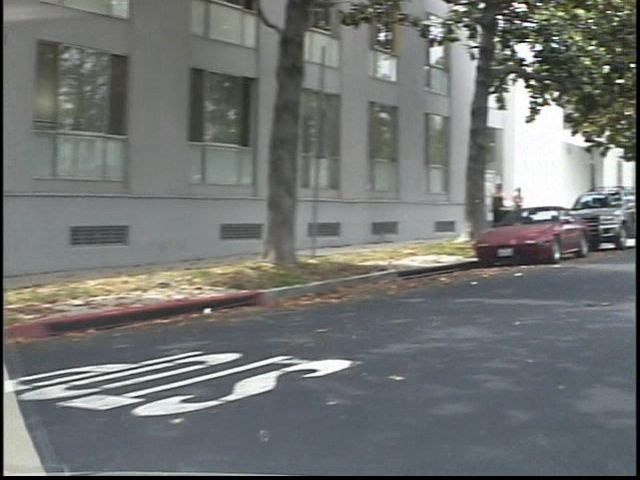person: (500, 179, 524, 242), (521, 184, 545, 238)
